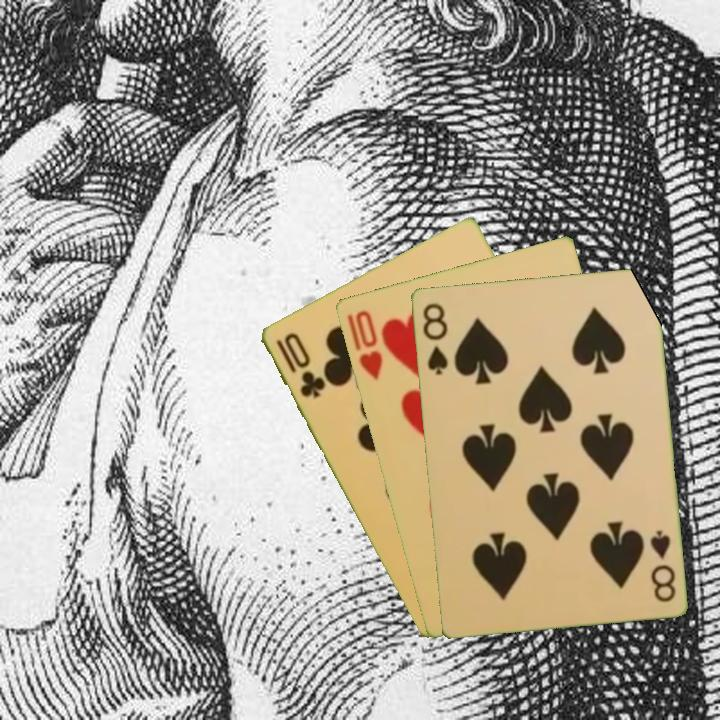10c: (272, 329, 327, 401)
10h: (343, 306, 385, 383)
8s: (646, 526, 678, 605), (419, 299, 450, 378)
